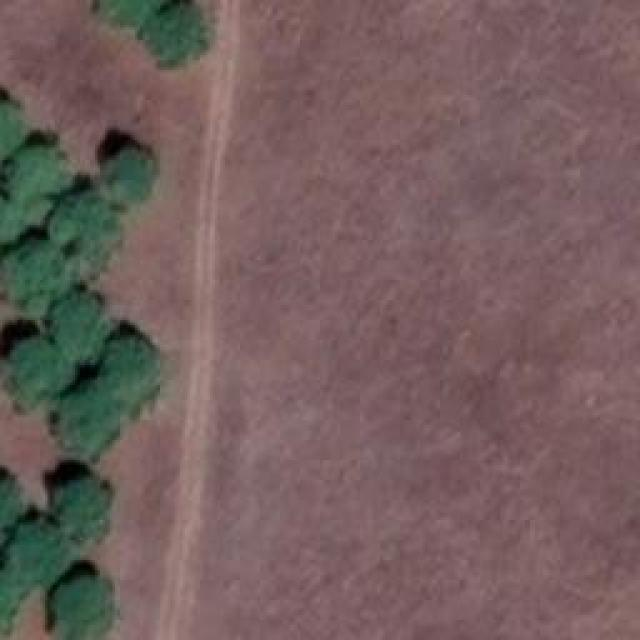Tree: (0, 243, 70, 313), (53, 198, 118, 263), (10, 340, 70, 403), (108, 338, 158, 408), (58, 392, 118, 450), (10, 147, 68, 205), (13, 523, 68, 583), (58, 577, 110, 635), (55, 293, 105, 353), (155, 5, 203, 63), (60, 480, 105, 535), (108, 150, 151, 200), (0, 565, 25, 640), (0, 480, 25, 550), (102, 0, 170, 20), (0, 105, 22, 155), (0, 202, 22, 237)
